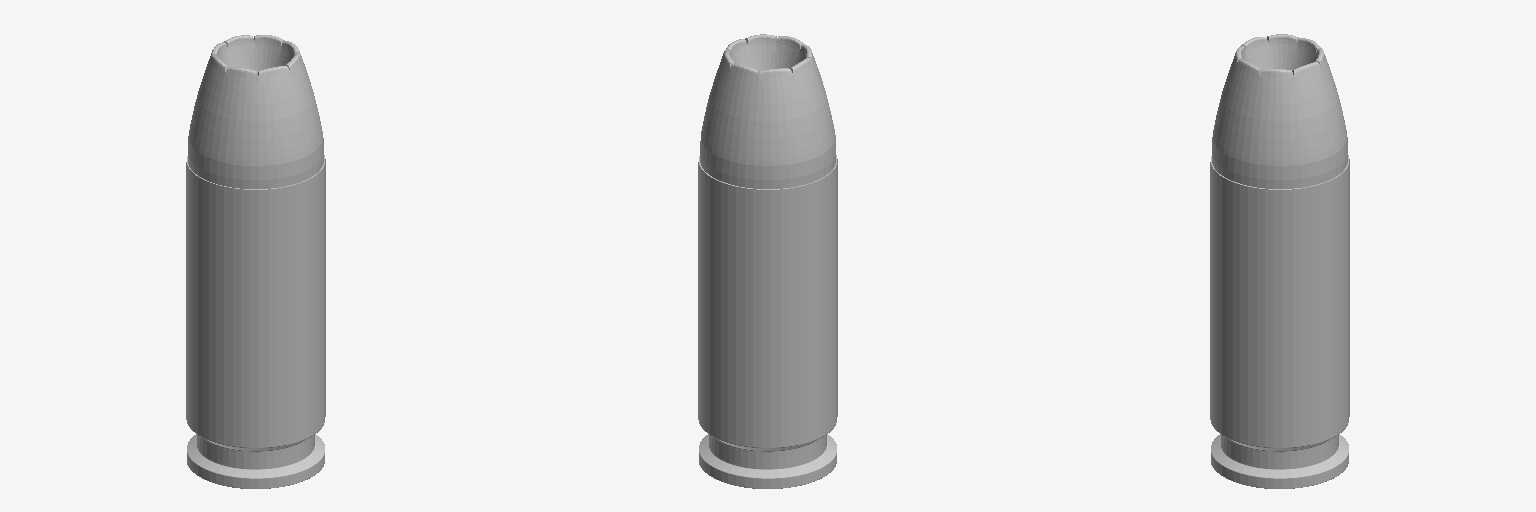
The model's file is Shell.obj.
3 renders of one model, left to right at view 1: azimuth 30°, elevation 25°; view 2: azimuth 150°, elevation 25°; view 3: azimuth 270°, elevation 25°, orthographic.
Visible parts, largest first — view 1: Group11807; view 2: Group11807; view 3: Group11807.
Boxes of the visible parts, x1,y1,x2,y2 form: Group11807: [186, 35, 325, 488]; Group11807: [698, 34, 837, 488]; Group11807: [1210, 34, 1349, 488].
Size of the model in its own units: 1.43 by 4.64 by 1.43.